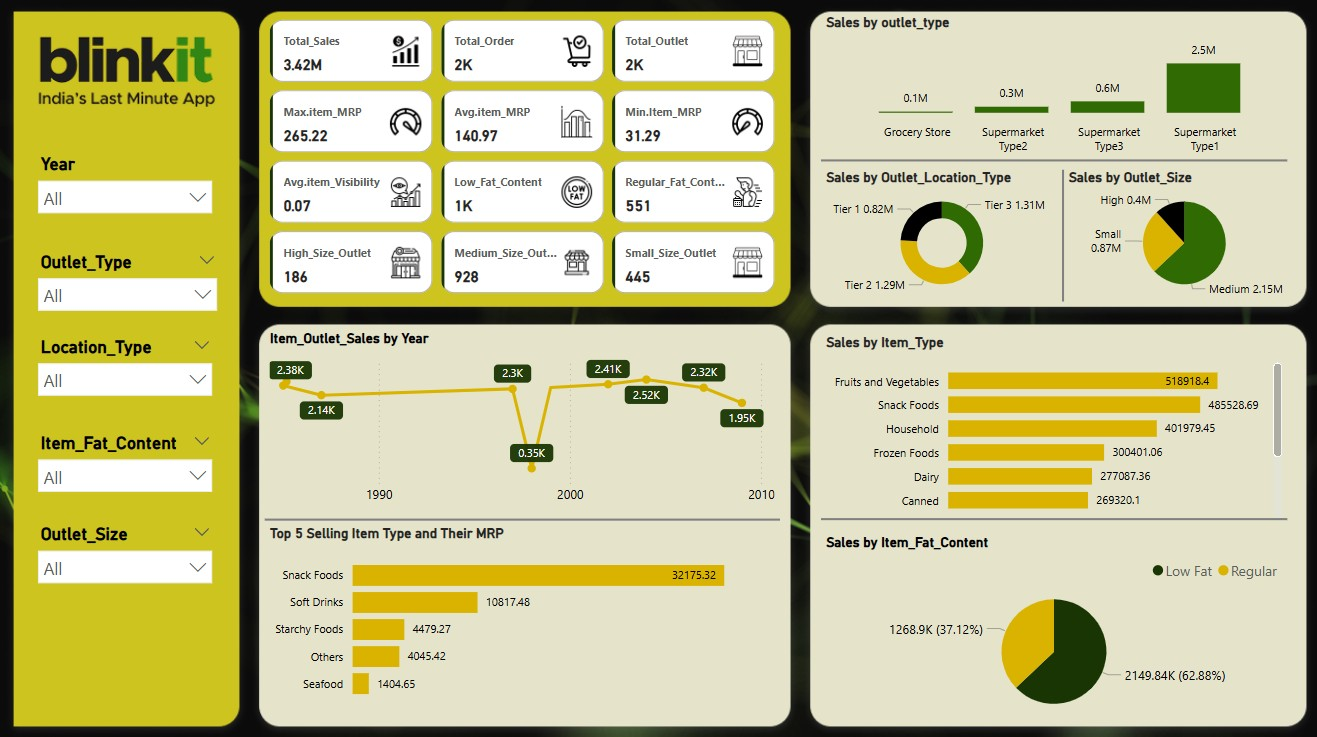

Layout of this report page (visuals, bound fields, positions):
{"tool":"powerbi","page":{"name":"Dashborad","canvas":[1280,720],"ordinal":0},"visuals":[{"type":"slicer","title":"Year","fields":{"Values":["Blinkit.outlet_establishment_year"]},"box":[30.2,147.2,188.2,73.6],"z":0},{"type":"slicer","title":"Outlet_Type","fields":{"Values":["Blinkit.outlet_type"]},"box":[30.2,241.3,193,76],"z":1000},{"type":"slicer","title":"Outlet_Location_Type","fields":{"Values":["Blinkit.outlet_location_type"]},"box":[30.2,323.3,188.2,73.6],"z":2000},{"type":"slicer","title":"Item_Fat_Content","fields":{"Values":["Blinkit.item_fat_content"]},"box":[30.2,416.2,188.2,73.6],"z":3000},{"type":"slicer","title":"Outlet_Size","fields":{"Values":["Blinkit.outlet_size"]},"box":[30.2,504.3,188.2,106.2],"z":4000},{"type":"cardVisual","fields":{"Data":["Blinkit.Total_Sales","Blinkit.Total_Order","Blinkit.Total_Outlet","Blinkit.Max.item_MRP","Blinkit.Avg.item_MRP","Blinkit.Min.Item_MRP","Blinkit.Avg.item_Visibility","Blinkit.Low_Fat_Content","Blinkit.Regular_Fat_Content","Blinkit.High_Size_Outlet","Blinkit.Medium_Size_Outlet","Blinkit.Small_Size_Outlet"]},"box":[259.1,18.2,497.3,276.4],"z":5000},{"type":"clusteredColumnChart","title":"Sales by outlet_type","fields":{"Category":["Blinkit.outlet_type"],"Y":["Blinkit.Outlet_Sales"]},"box":[796.4,18.2,450,141.8],"z":6000},{"type":"shape","box":[796.4,149.1,450,18.2],"z":7000},{"type":"donutChart","title":"Sales by Outlet_Location_Type","fields":{"Category":["Blinkit.outlet_location_type"],"Y":["Blinkit.Outlet_Sales"]},"box":[796.4,167.3,233.6,127.3],"z":8000},{"type":"shape","box":[1021.8,167.3,16.4,127.3],"z":9000},{"type":"pieChart","title":"Sales by Outlet_Size","fields":{"Y":["Blinkit.Outlet_Sales"],"Category":["Blinkit.outlet_size"]},"box":[1030,167.3,233.6,127.3],"z":10000},{"type":"lineChart","title":"Item_Outlet_Sales by Year","fields":{"Category":["Blinkit.outlet_establishment_year"],"Y":["Avg(Blinkit.item_outlet_sales)"]},"box":[259.1,323.6,497.3,176.4],"z":11000},{"type":"clusteredBarChart","title":"Sales by Item_Type","fields":{"Y":["Blinkit.Outlet_Sales"],"Category":["Blinkit.item_type"]},"box":[796.4,327,450.1,184.6],"z":12000},{"type":"shape","box":[259.1,500,497.3,11.8],"z":13000},{"type":"pieChart","title":"Sales by Item_Fat_Content","fields":{"Category":["Blinkit.item_fat_content"],"Y":["Sum(Blinkit.item_outlet_sales)"]},"box":[796.4,520.1,450.1,182.2],"z":14000},{"type":"clusteredBarChart","title":"Top 5 Selling Item Type and Their MRP","fields":{"Category":["Blinkit.item_type"],"Y":["Sum(Blinkit.item_mrp)"]},"box":[259.4,511.6,497.1,178.6],"z":15000},{"type":"shape","box":[796.4,498.3,450.1,13.3],"z":16000}]}

Visuals, with their boxes in screenshot pixels (x1, y1, x2, y2), scaled from the page's 1280x720 canvas onto the 1317x737 screenshot:
"Year" slicer: left=31, top=151, right=225, bottom=226
"Outlet_Type" slicer: left=31, top=247, right=230, bottom=325
"Outlet_Location_Type" slicer: left=31, top=331, right=225, bottom=406
"Item_Fat_Content" slicer: left=31, top=426, right=225, bottom=501
"Outlet_Size" slicer: left=31, top=516, right=225, bottom=625
cardVisual - Blinkit.Total_Sales x Blinkit.Total_Order: left=267, top=19, right=778, bottom=302
"Sales by outlet_type" clusteredColumnChart: left=819, top=19, right=1282, bottom=164
shape: left=819, top=153, right=1282, bottom=171
"Sales by Outlet_Location_Type" donutChart: left=819, top=171, right=1060, bottom=302
shape: left=1051, top=171, right=1068, bottom=302
"Sales by Outlet_Size" pieChart: left=1060, top=171, right=1300, bottom=302
"Item_Outlet_Sales by Year" lineChart: left=267, top=331, right=778, bottom=512
"Sales by Item_Type" clusteredBarChart: left=819, top=335, right=1283, bottom=524
shape: left=267, top=512, right=778, bottom=524
"Sales by Item_Fat_Content" pieChart: left=819, top=532, right=1283, bottom=719
"Top 5 Selling Item Type and Their MRP" clusteredBarChart: left=267, top=524, right=778, bottom=706
shape: left=819, top=510, right=1283, bottom=524
